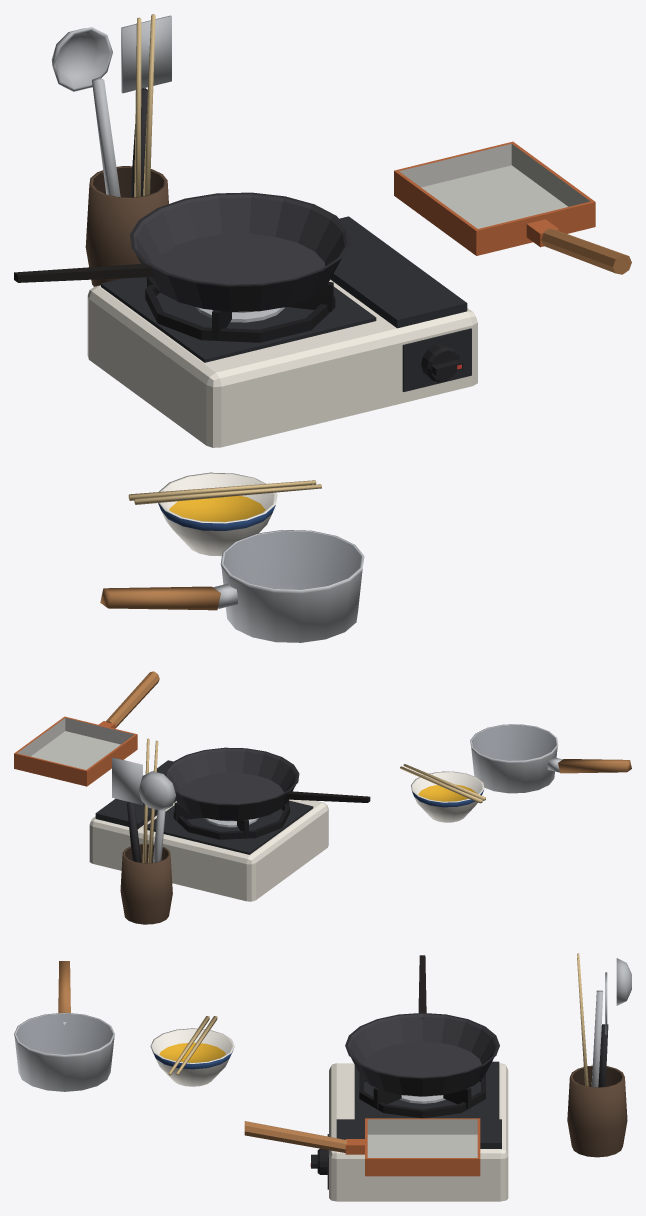
File: gasstove.glb
3 renders of one model, top to bottom at view 1: azimuth 30°, elevation 25°; view 2: azimuth 150°, elevation 25°; view 3: azimuth 270°, elevation 25°, orthographic. The views are drawn at different scales.
Parts seen in each view (by area): view 1: GasStove, StoveTools, FryPan, SoupPot, EggPan, StoveKnob0; view 2: GasStove, StoveTools, FryPan, EggPan, SoupPot; view 3: GasStove, StoveTools, FryPan, EggPan, SoupPot, StoveKnob0.
Part boxes in pixels (bbox=[...]): GasStove: bbox=[87, 216, 477, 447]; StoveTools: bbox=[51, 14, 321, 556]; FryPan: bbox=[14, 192, 350, 311]; SoupPot: bbox=[100, 530, 364, 642]; EggPan: bbox=[394, 141, 631, 274]; StoveKnob0: bbox=[421, 342, 463, 382]; GasStove: bbox=[89, 760, 328, 901]; StoveTools: bbox=[112, 738, 485, 924]; FryPan: bbox=[164, 747, 370, 820]; EggPan: bbox=[14, 671, 159, 786]; SoupPot: bbox=[470, 724, 631, 793]; GasStove: bbox=[327, 1061, 508, 1201]; StoveTools: bbox=[150, 953, 631, 1157]; FryPan: bbox=[345, 955, 499, 1096]; EggPan: bbox=[244, 1118, 480, 1176]; SoupPot: bbox=[14, 961, 114, 1091]; StoveKnob0: bbox=[310, 1148, 327, 1174].
Bounding box in the file's own units: 0.8889 × 0.3302 × 0.965.
